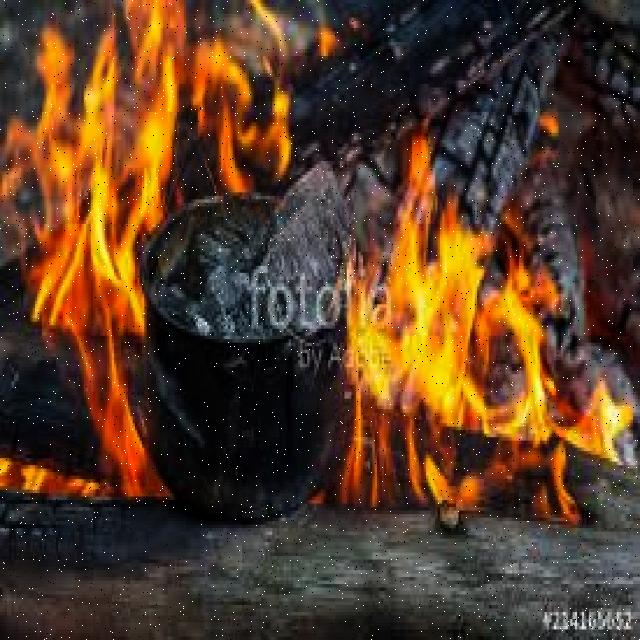fire: (353, 170, 640, 518), (12, 0, 148, 522), (158, 22, 292, 183)
